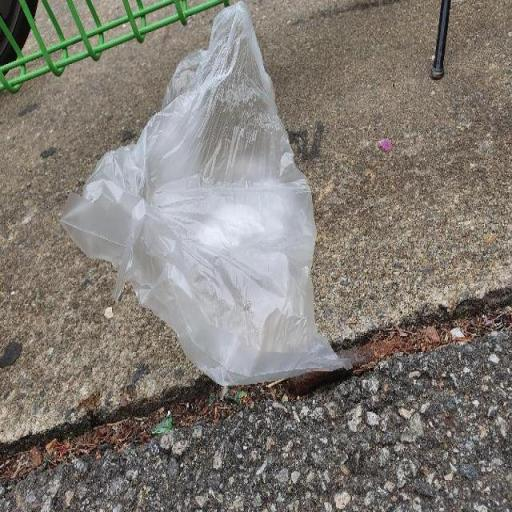plastic-bag: (61, 0, 354, 391)
